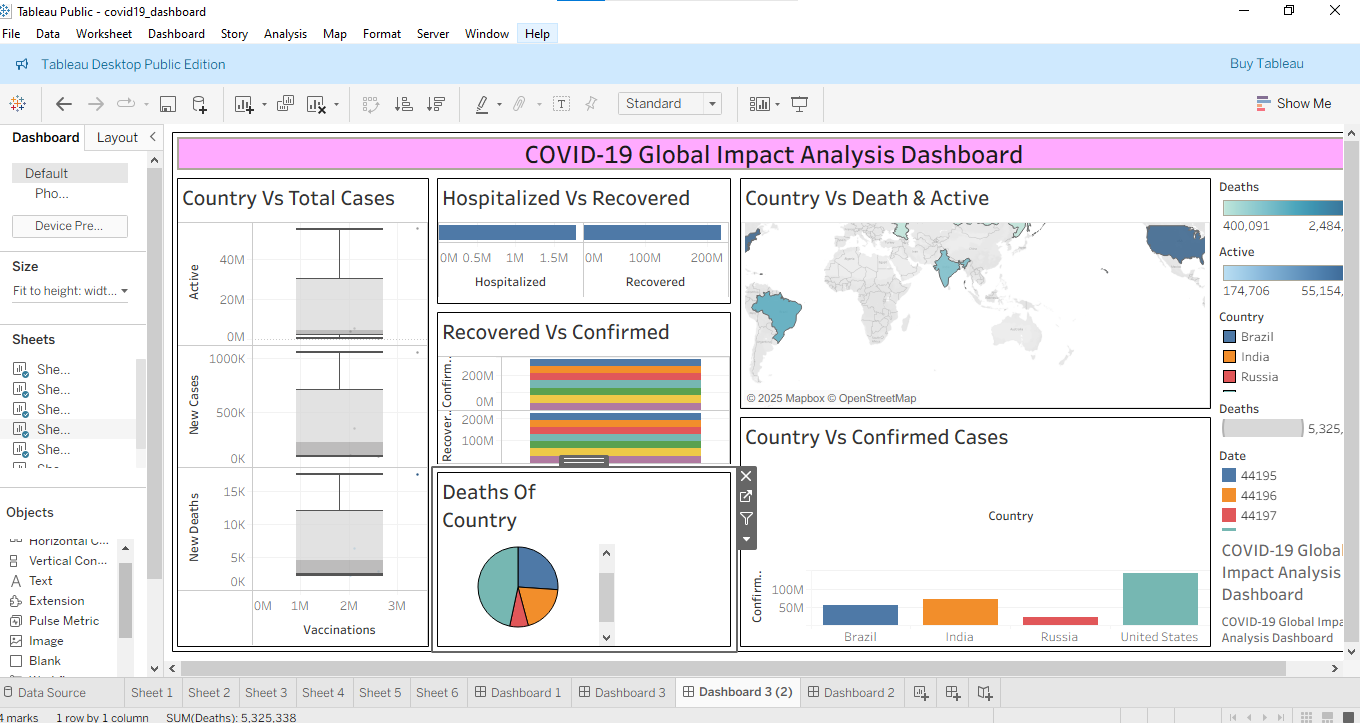

The page's visual inventory and layout, read from the dashboard file:
{"tool":"tableau","page":{"name":"Dashboard 3","canvas":[1000,1000],"units":"permille","ordinal":2},"visuals":[{"type":"title","box":[7.4,16.8,985.2,76.5]},{"type":"worksheet","title":"Sheet 3","mark":"Circle","rows":["Active","New_Cases","New_Deaths"],"cols":["Vaccinations"],"box":[7.4,93.3,213.5,889.9]},{"type":"worksheet","title":"Sheet 2","mark":"Bar","cols":["Hospitalized","Recovered"],"box":[220.9,93.3,247.9,249.8]},{"type":"worksheet","title":"Sheet 5","mark":"Automatic","box":[468.8,93.3,392.7,446.7]},{"type":"legend","title":"Sheet 5","param":"[federated.028u9mm0cpw4x3108tzwy1o7fjn8].[sum:Deaths:qk]","box":[861.5,93.3,131.2,121.3]},{"type":"legend","title":"Sheet 3","param":"[federated.028u9mm0cpw4x3108tzwy1o7fjn8].[sum:Active:qk]","box":[861.5,214.6,131.2,121.3]},{"type":"legend","title":"Sheet 4","param":"[federated.028u9mm0cpw4x3108tzwy1o7fjn8].[none:Country:nk]","box":[861.5,335.8,131.2,172.6]},{"type":"worksheet","title":"Sheet 6","mark":"Automatic","rows":["Confirmed","Recovered"],"box":[220.9,343.1,247.9,299.5]},{"type":"legend","title":"Sheet 4","param":"[federated.028u9mm0cpw4x3108tzwy1o7fjn8].[sum:Deaths:qk]","box":[861.5,508.4,131.2,85.8]},{"type":"worksheet","title":"Sheet 1","mark":"Automatic","rows":["Confirmed"],"cols":["Country"],"box":[468.8,540,392.7,443.2]},{"type":"legend","title":"Sheet 6","param":"[federated.028u9mm0cpw4x3108tzwy1o7fjn8].[none:Date:ok]","box":[861.5,594.2,131.2,172.6]},{"type":"worksheet","title":"Sheet 4","mark":"Pie","box":[220.9,642.6,247.9,340.6]},{"type":"text","box":[861.5,766.8,131.2,138.1]},{"type":"text","box":[861.5,904.8,131.2,78.4]}]}

Visuals, with their boxes on the dashboard's canvas, which has no fixed pixel size, in thousandths of its width and height (x1, y1, x2, y2). These are canvas units, not pixel positions in the 1360x723 screenshot, which may show the page scaled, cropped or inside an application window:
title: (7,17,993,93)
"Sheet 3" worksheet (Circle marks): (7,93,221,983)
"Sheet 2" worksheet (Bar marks): (221,93,469,343)
"Sheet 5" worksheet: (469,93,862,540)
"Sheet 5" legend: (862,93,993,215)
"Sheet 3" legend: (862,215,993,336)
"Sheet 4" legend: (862,336,993,508)
"Sheet 6" worksheet: (221,343,469,643)
"Sheet 4" legend: (862,508,993,594)
"Sheet 1" worksheet: (469,540,862,983)
"Sheet 6" legend: (862,594,993,767)
"Sheet 4" worksheet (Pie marks): (221,643,469,983)
text: (862,767,993,905)
text: (862,905,993,983)
